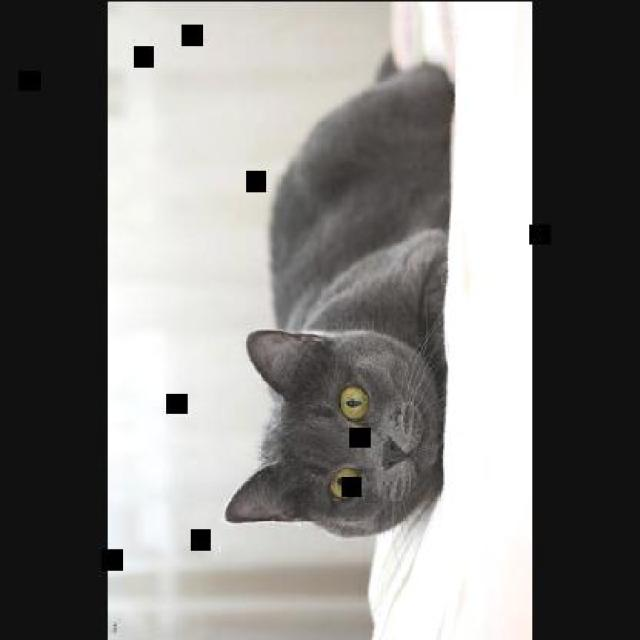unauthorized: (223, 48, 452, 538)
